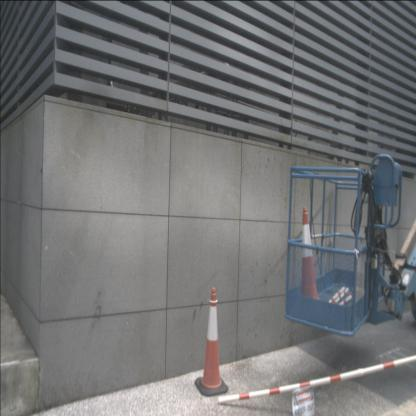cone: (194, 286, 228, 398), (298, 207, 321, 318)
